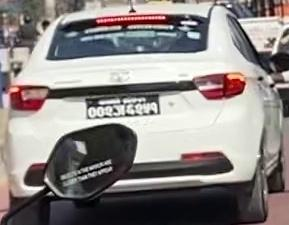license-plate: (83, 95, 166, 119)
